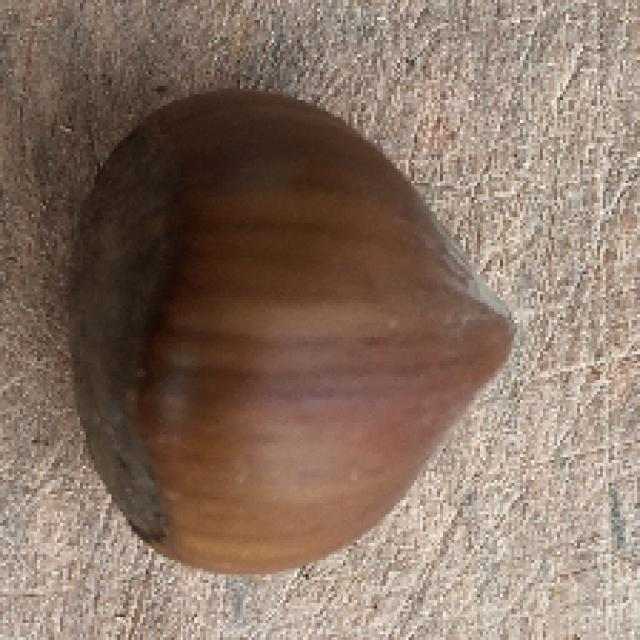qualityHazelnut: (75, 90, 522, 570)
